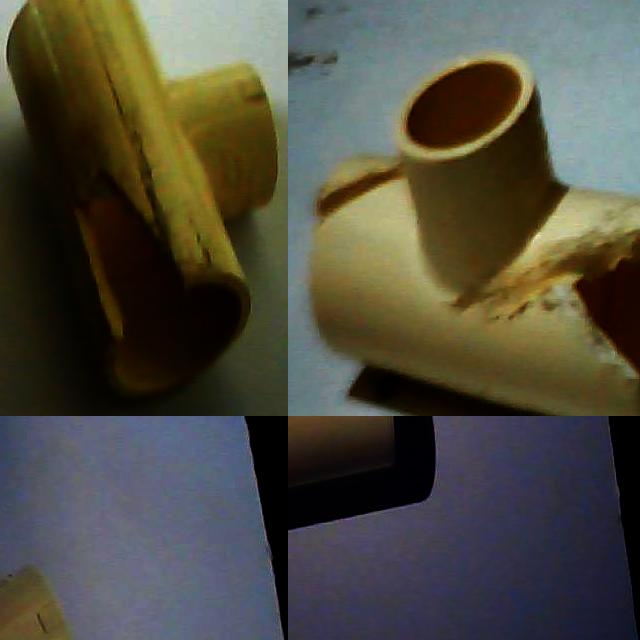Defective: (525, 237, 640, 416), (75, 167, 186, 335), (327, 163, 397, 216)
T Joint: (308, 53, 640, 416), (4, 0, 279, 406)
